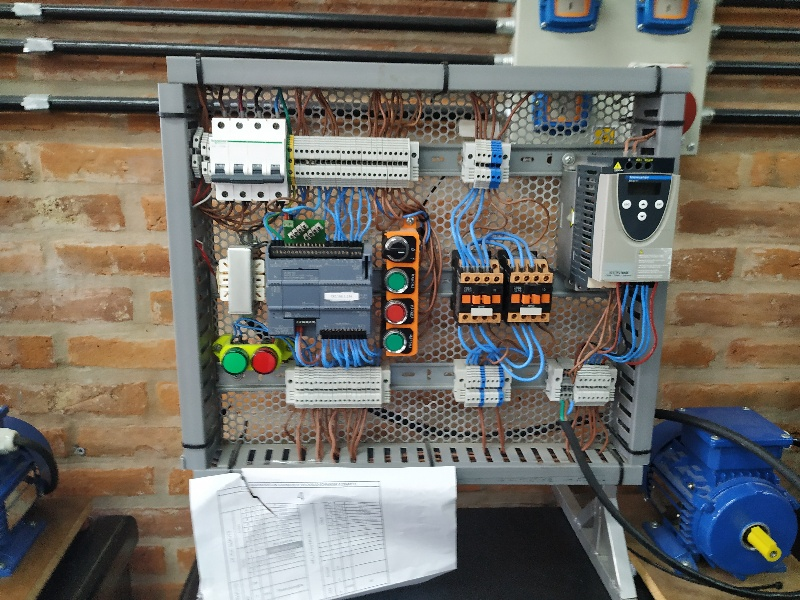Tablero 4: (173, 74, 675, 470)
